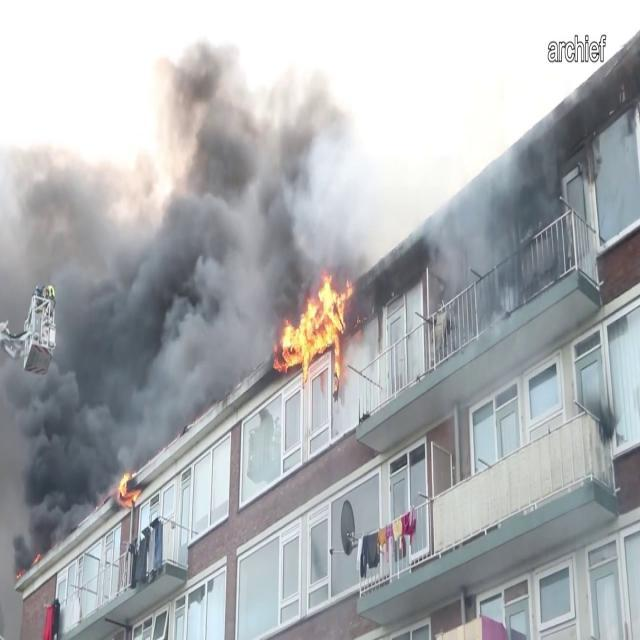Fire: (274, 271, 358, 385)
Smoke: (0, 8, 296, 430), (403, 110, 574, 328)
